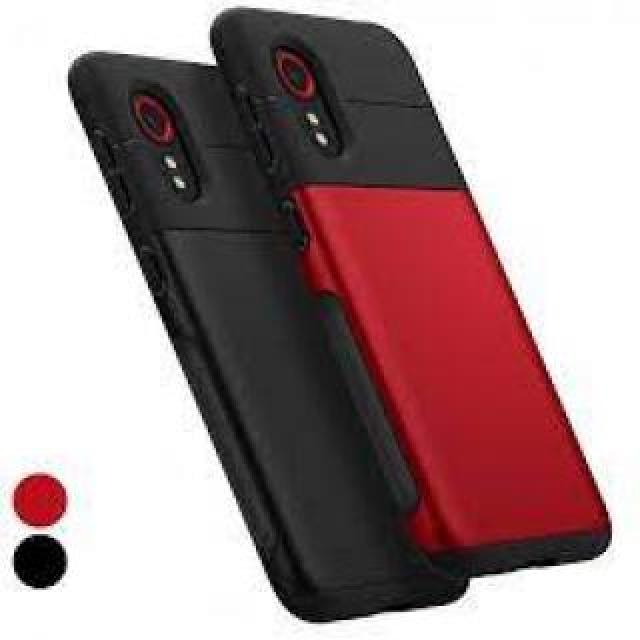smart phone: (332, 0, 606, 602), (103, 38, 355, 640)
